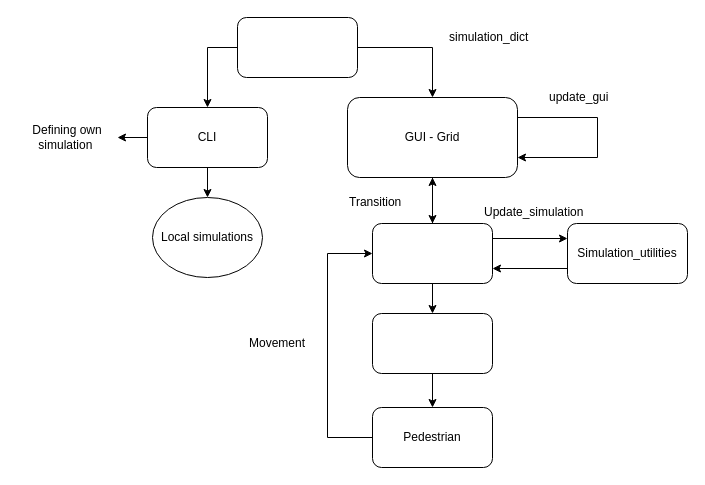
Some shapes in this 705 by 485 pixel diagram are drawn without their labels. The centre of each missing label's shape, as x and y in pixels:
"Cell" goes at [432,343].
"main.py" goes at [297,47].
"Table" goes at [432,253].
